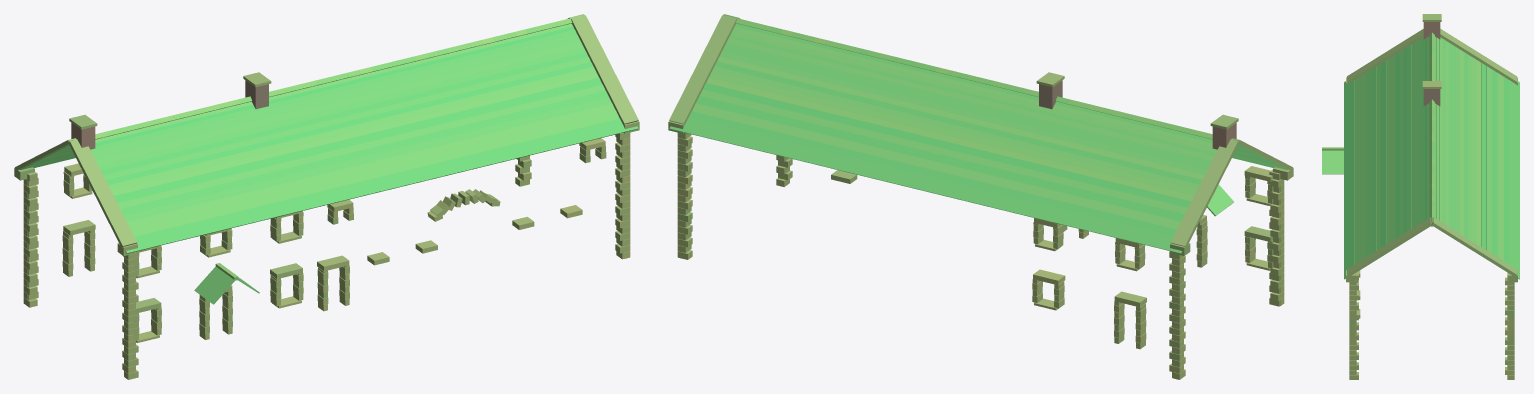
The model's file is SM_Bld_112_Stone.glb.
3 views of the same model, side by side, from view 1: azimuth 30°, elevation 25°; view 2: azimuth 150°, elevation 25°; view 3: azimuth 270°, elevation 25° (orthographic). The views are drawn at different scales.
Parts seen in each view (by area): view 1: SM_Bld_112_Stone; view 2: SM_Bld_112_Stone; view 3: SM_Bld_112_Stone.
Part boxes in pixels (<box>): SM_Bld_112_Stone: <box>14,14,639,379</box>; SM_Bld_112_Stone: <box>668,14,1293,379</box>; SM_Bld_112_Stone: <box>1322,14,1519,379</box>.
Size of the model in its own units: 25.66 by 10.4 by 10.81.
